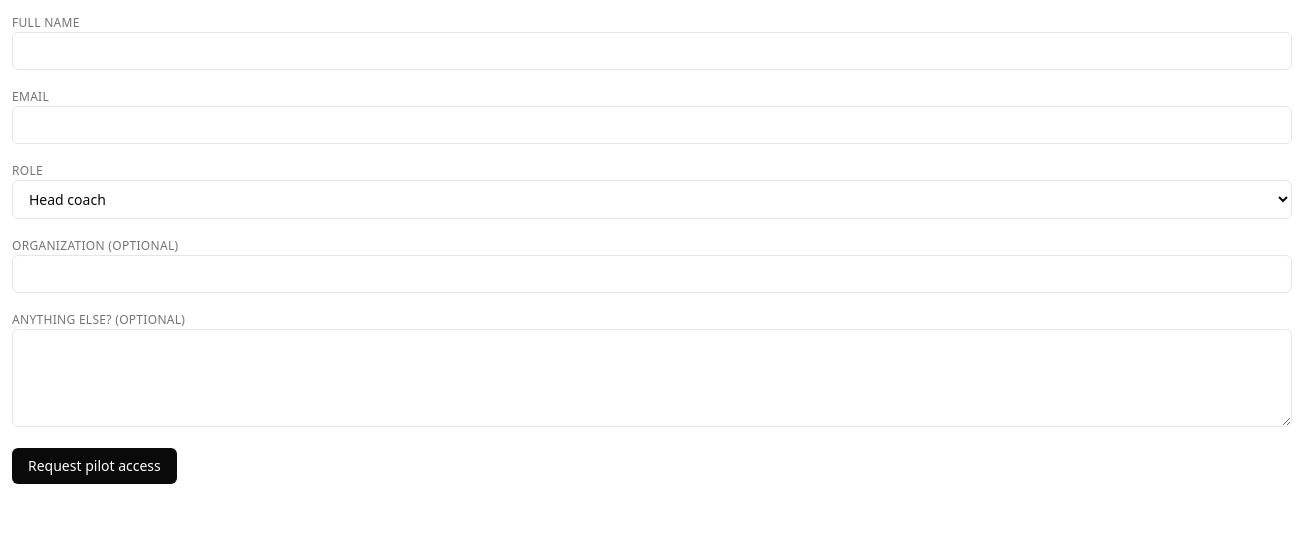
Test: PilotInterestForm › surfaces a friendly 429 message without revealing rate-limit internals
Type "Probe" into the field labelled "Full name" at (652, 51), box [12,32,1292,70]
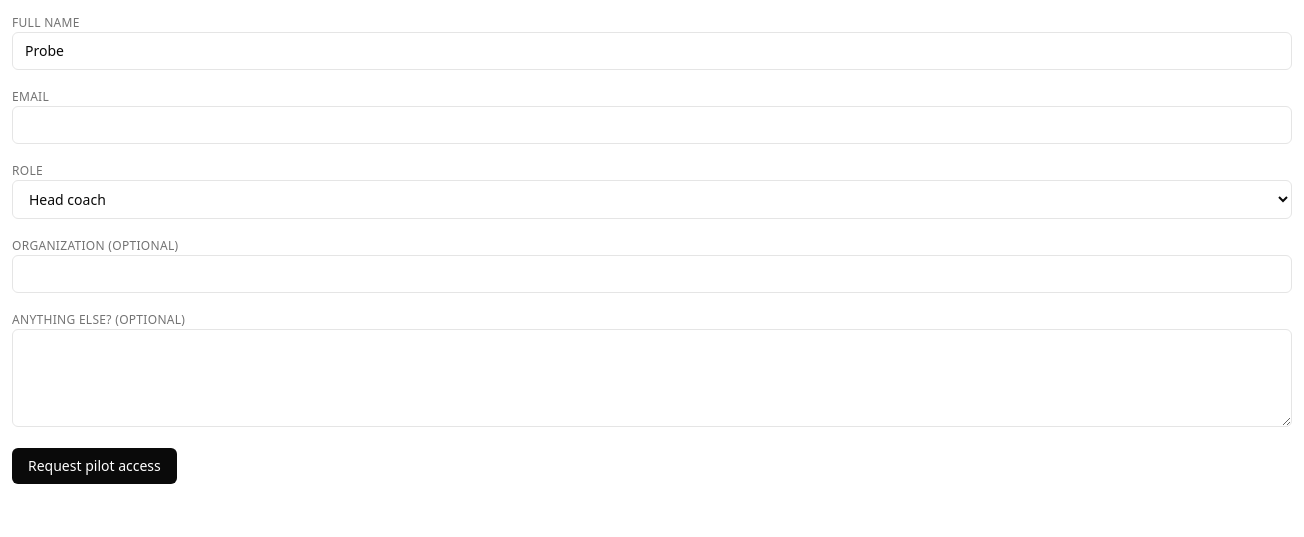
Type "probe@example.com" into the field labelled "Email" at (652, 125), box [12,106,1292,144]
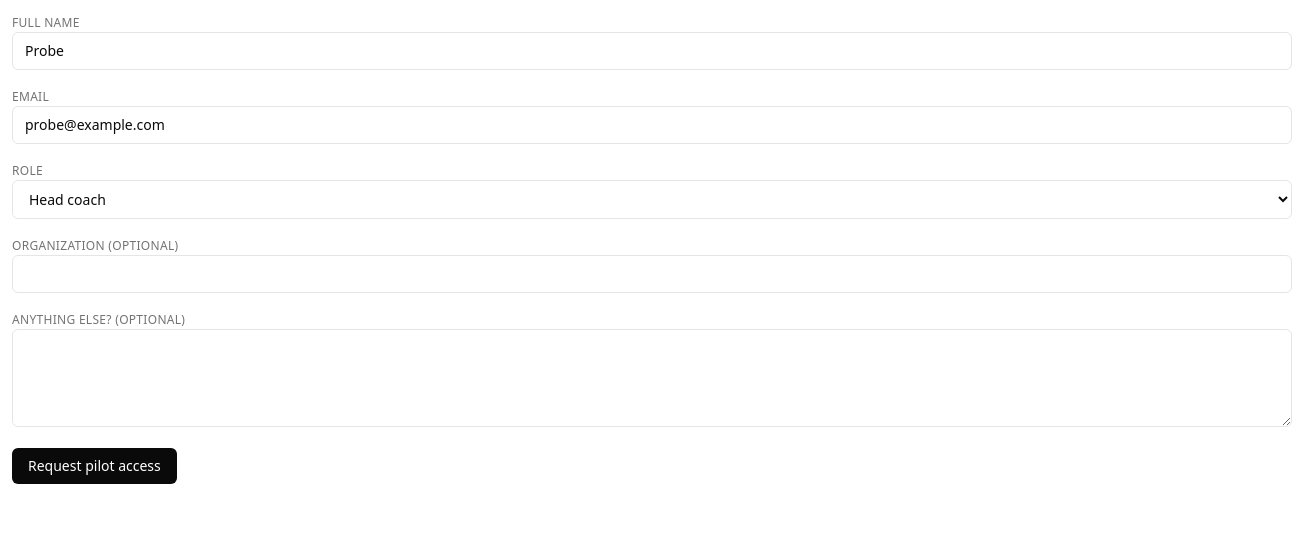
Click the button with test id "pilot-submit" at (94, 466), box [12,448,177,484]
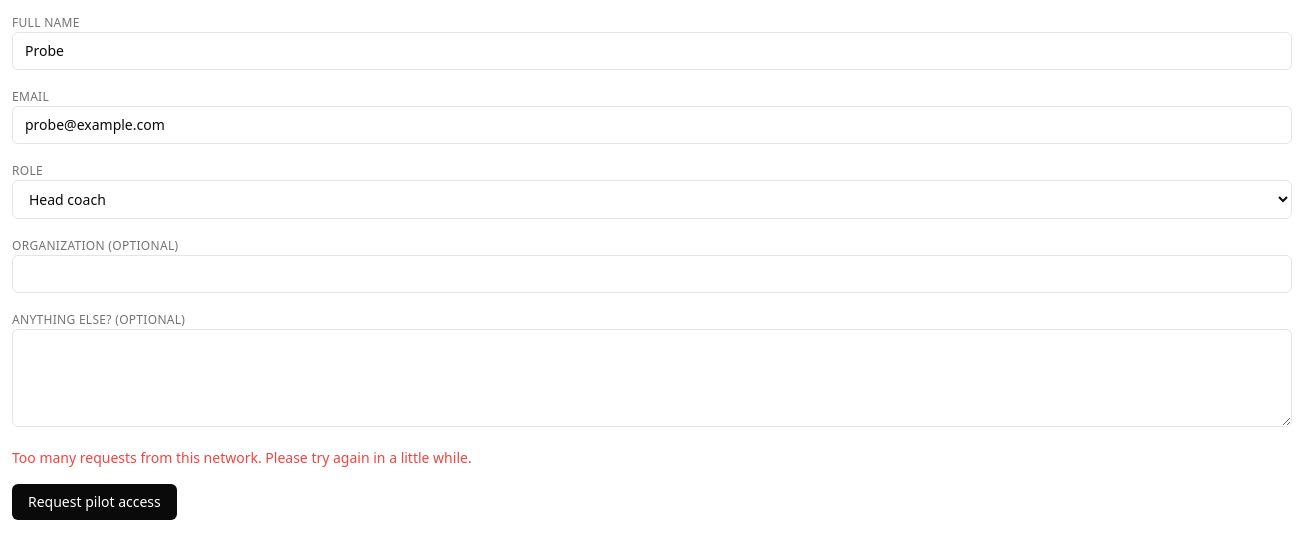
Expected: the text "Too many requests from this network. Please try again in a little while." is shown, [12,448,472,467]
